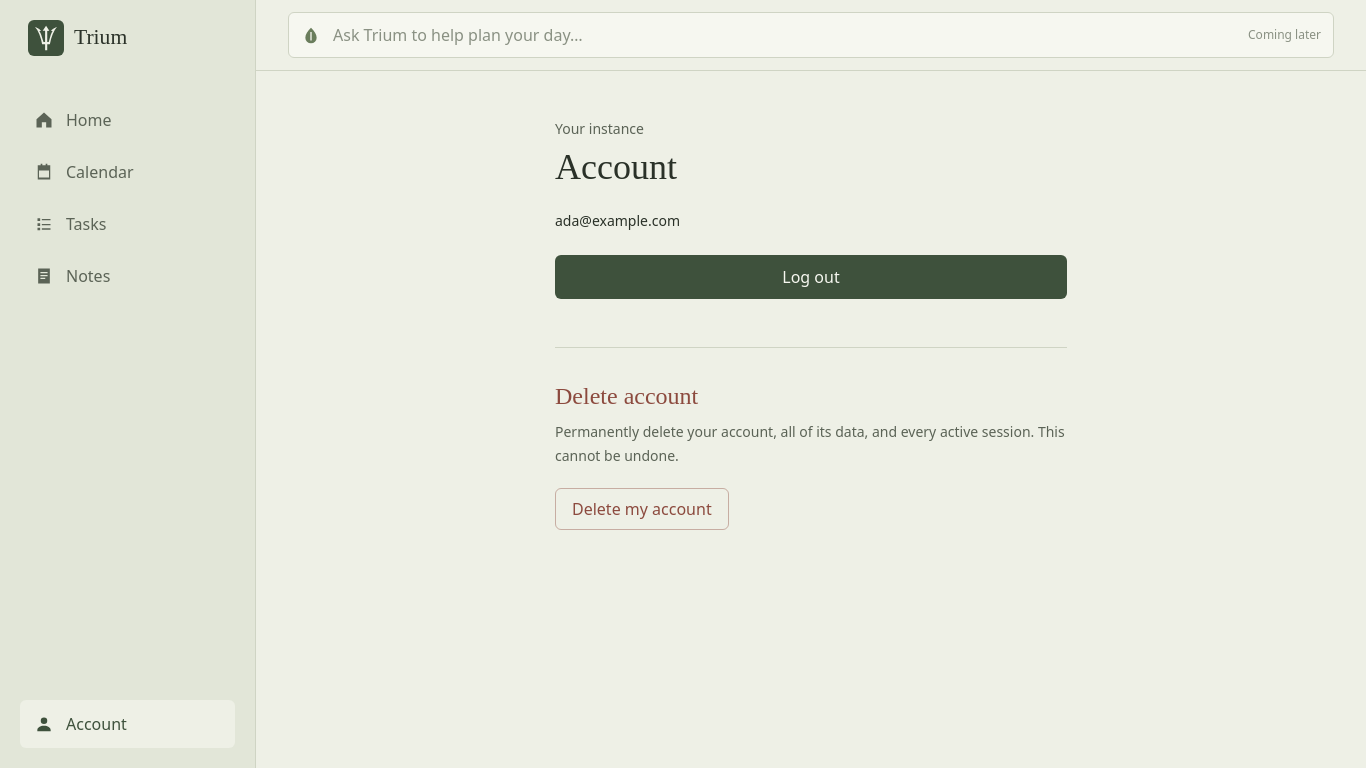
Test: AccountPage › cancels account deletion without sending a request
Expected: the heading "Account" is shown, [555,147,677,187]
Click the button "Delete my account". click: coordinates (642, 509)
box: [555,488,729,530]
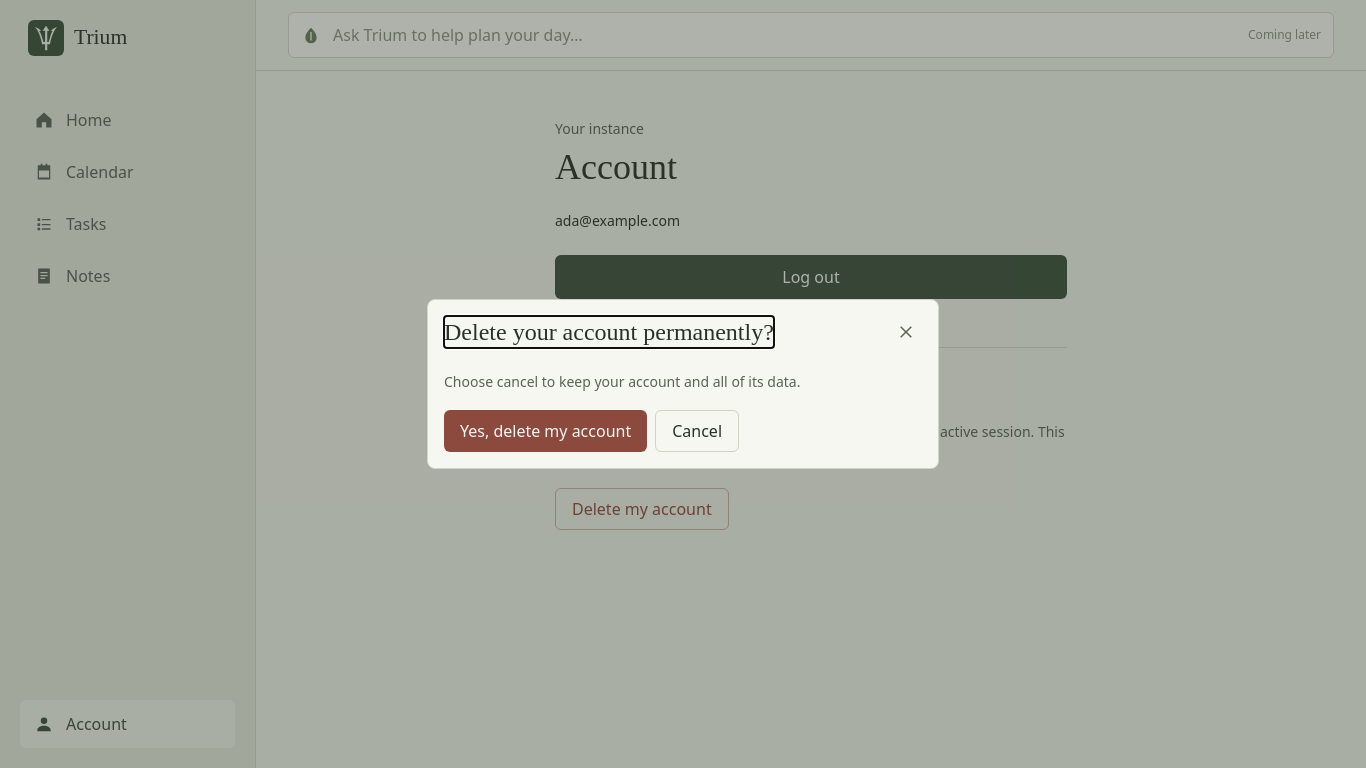
Expected: the dialog "Delete your account permanently?" is shown, [427,299,939,469]
Click the button "Cancel". click: coordinates (697, 431)
box: [655,410,739,452]
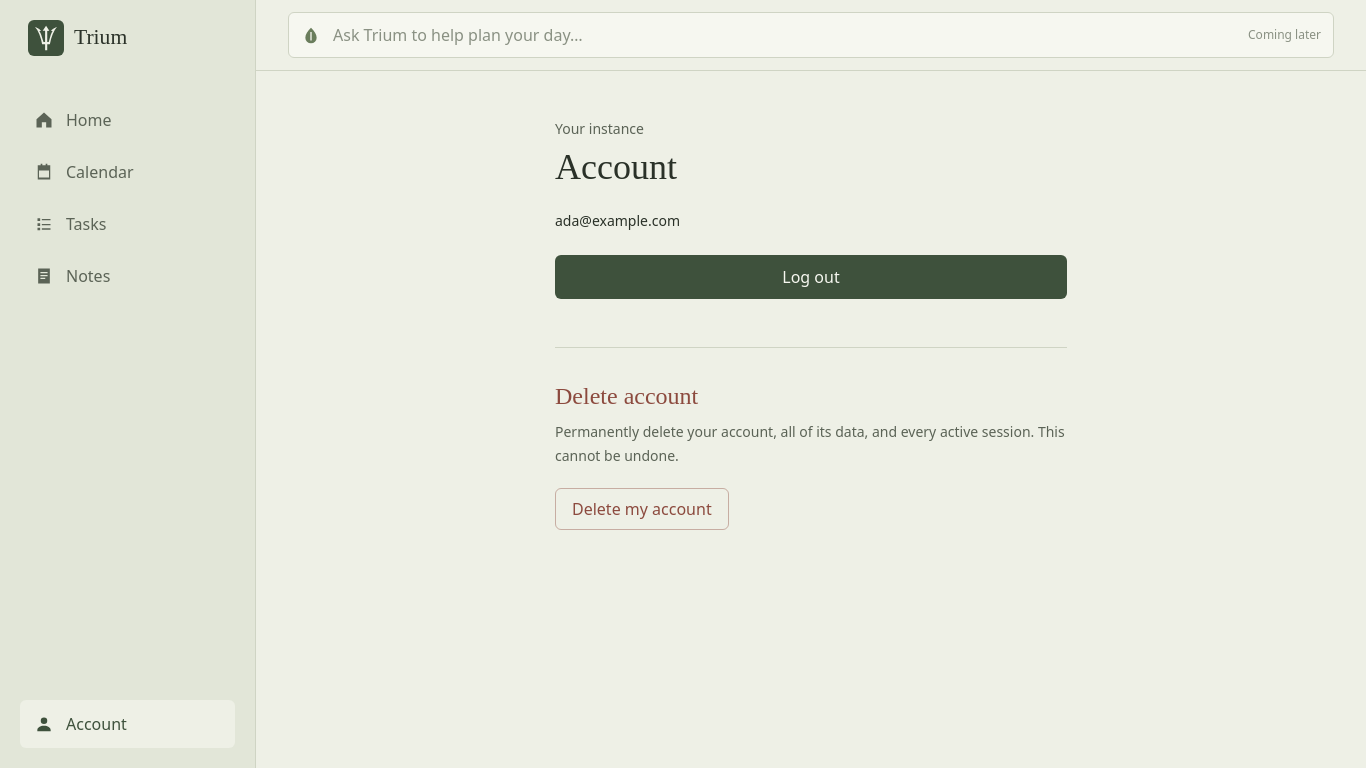
Expected: the button "Yes, delete my account" is gone
